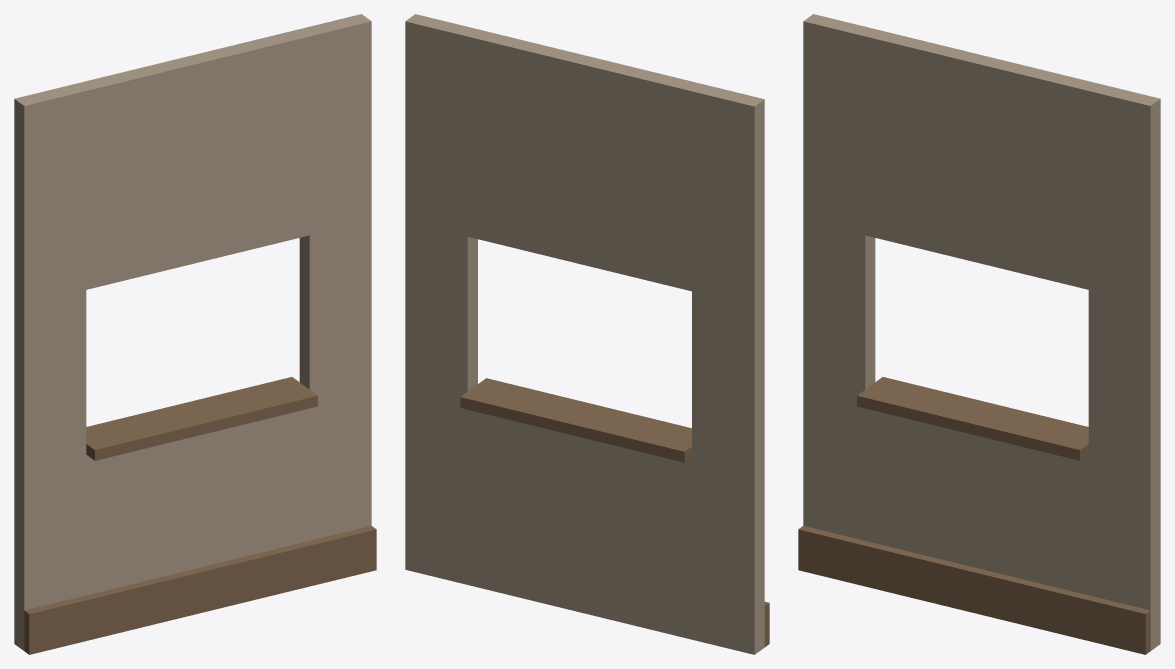
Rendered from Mesh_WallBaseboard_B3.fbx.
3 views of the same model, side by side, from view 1: azimuth 30°, elevation 25°; view 2: azimuth 150°, elevation 25°; view 3: azimuth 330°, elevation 25° (orthographic).
Visible parts, largest first — view 1: Mesh_WallBaseboard_B3; view 2: Mesh_WallBaseboard_B3; view 3: Mesh_WallBaseboard_B3.
Boxes of the visible parts, x1,y1,x2,y2 form: Mesh_WallBaseboard_B3: (14, 14, 376, 654); Mesh_WallBaseboard_B3: (405, 14, 769, 654); Mesh_WallBaseboard_B3: (798, 14, 1160, 654).
Size of the model in its own units: 2 by 3 by 0.2574.
